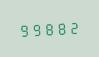eight: (54, 19, 65, 36), (42, 20, 53, 36)
nine: (18, 21, 29, 38), (30, 21, 41, 37)
two: (66, 19, 77, 35)
